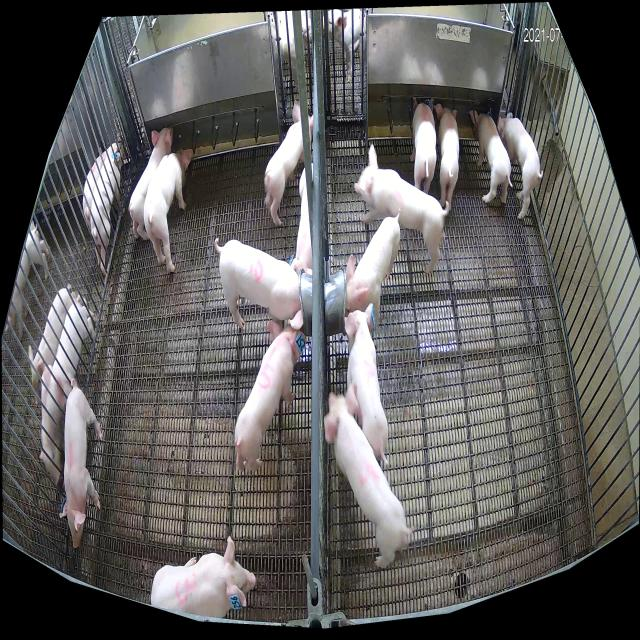pig: (324, 384, 413, 568), (355, 143, 449, 273), (234, 322, 306, 472), (151, 536, 256, 618), (214, 238, 303, 330), (59, 378, 102, 547), (344, 304, 388, 465), (345, 209, 400, 327), (144, 149, 195, 271), (264, 102, 314, 226), (129, 125, 174, 239), (498, 113, 543, 220), (467, 111, 513, 203), (410, 98, 437, 194), (435, 104, 459, 209), (293, 169, 313, 274)
